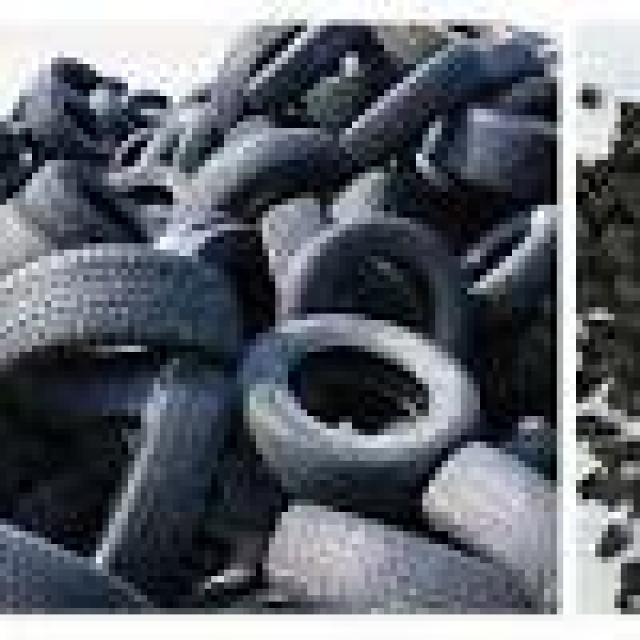Rubber -Non-Biodegradable but Recyclable-: (0, 29, 574, 615)
